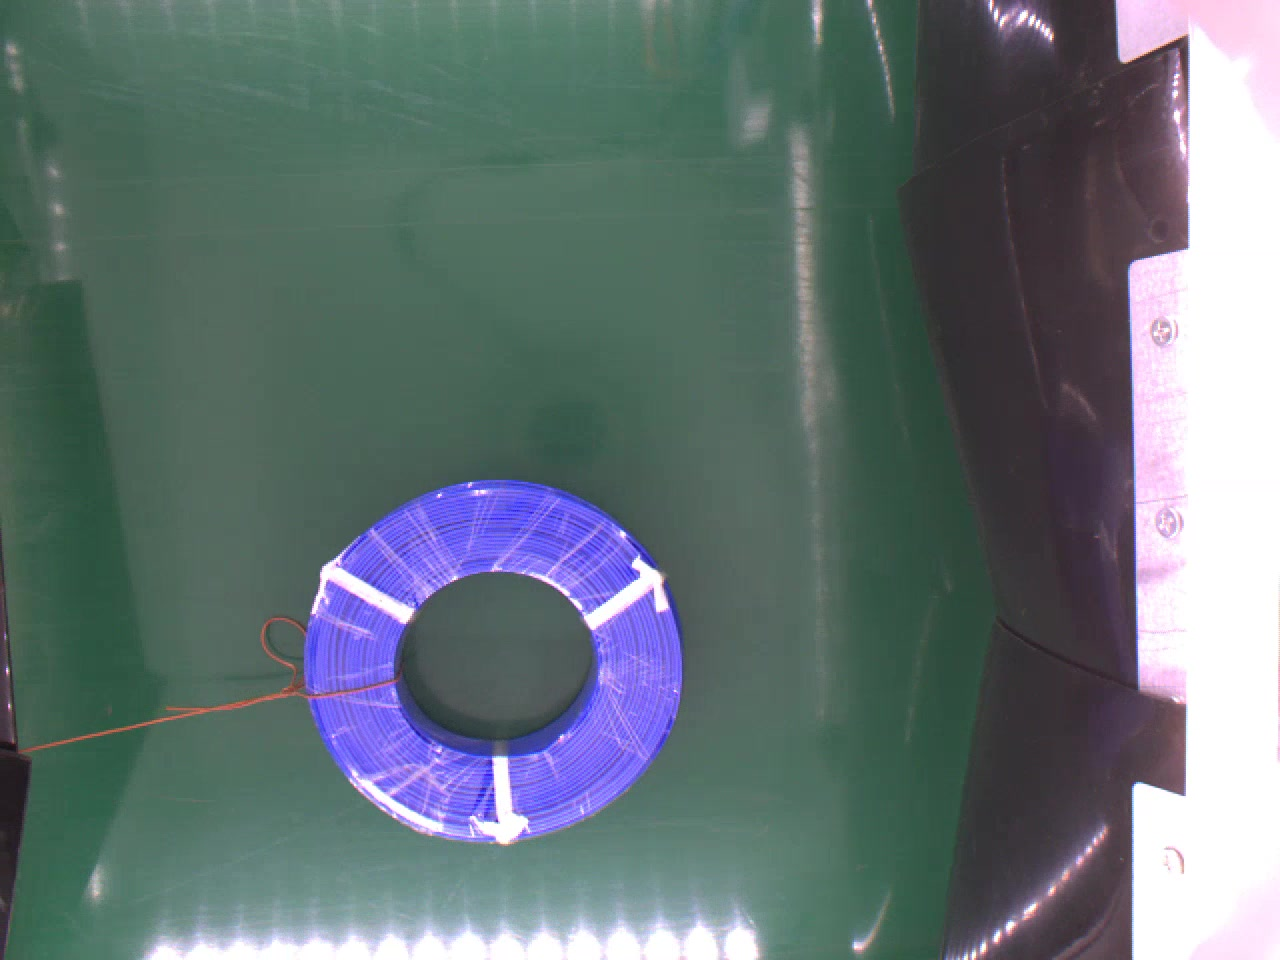blue: (302, 473, 686, 845)
